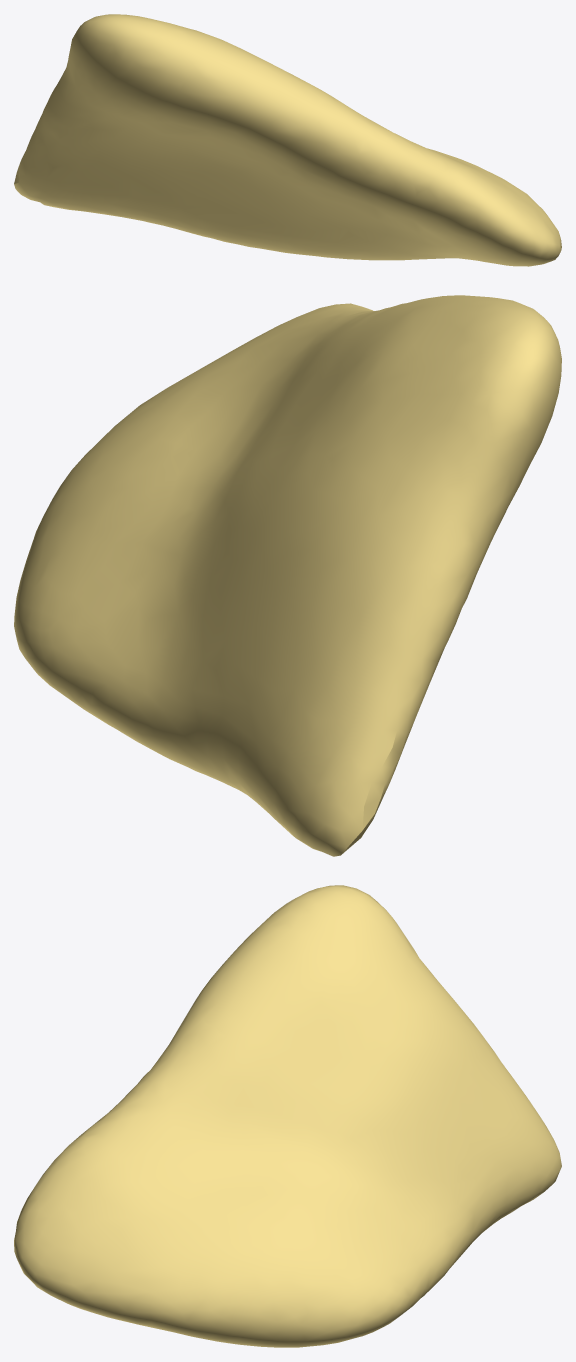
The picture shows the model from 3 angles, top to bottom: view 1: azimuth 30°, elevation 25°; view 2: azimuth 150°, elevation 25°; view 3: azimuth 270°, elevation 25°; orthographic projection. The views are drawn at different scales.
Visible parts, largest first — view 1: ZA_69571b5eb2020c9c; view 2: ZA_69571b5eb2020c9c; view 3: ZA_69571b5eb2020c9c.
Part boxes in pixels (x1,y1,x2,y2): ZA_69571b5eb2020c9c: (14,14,561,266); ZA_69571b5eb2020c9c: (14,295,561,856); ZA_69571b5eb2020c9c: (14,885,561,1347).
Bounding box in the file's own units: 0.0173 × 0.0129 × 0.0206.
